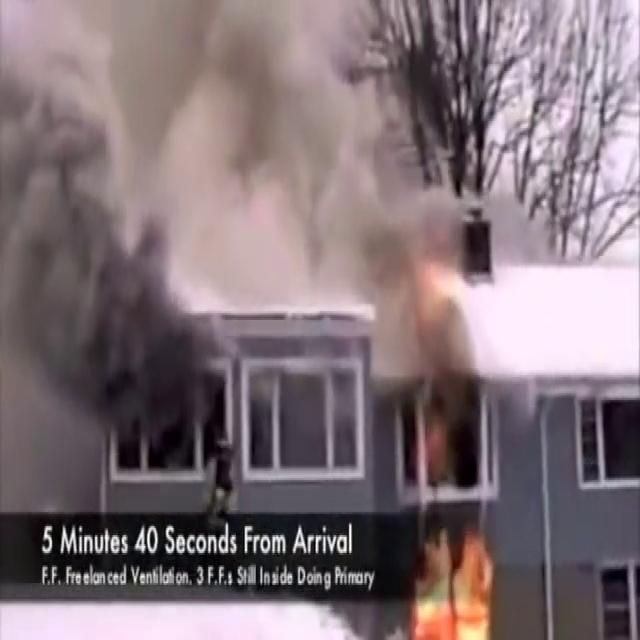Fire: (402, 520, 508, 639)
Smoke: (1, 0, 463, 309), (0, 0, 206, 477)
